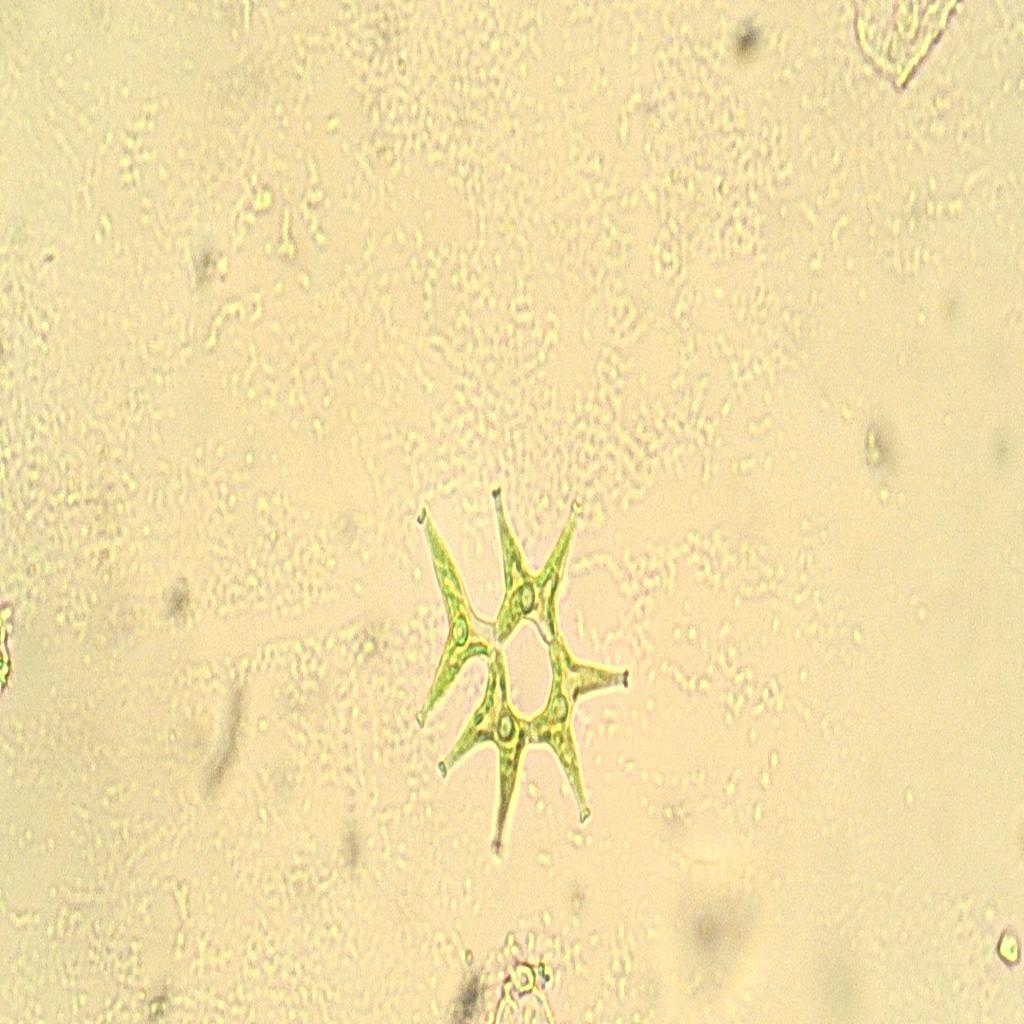Pediastrum_CT: (399, 456, 644, 872)
